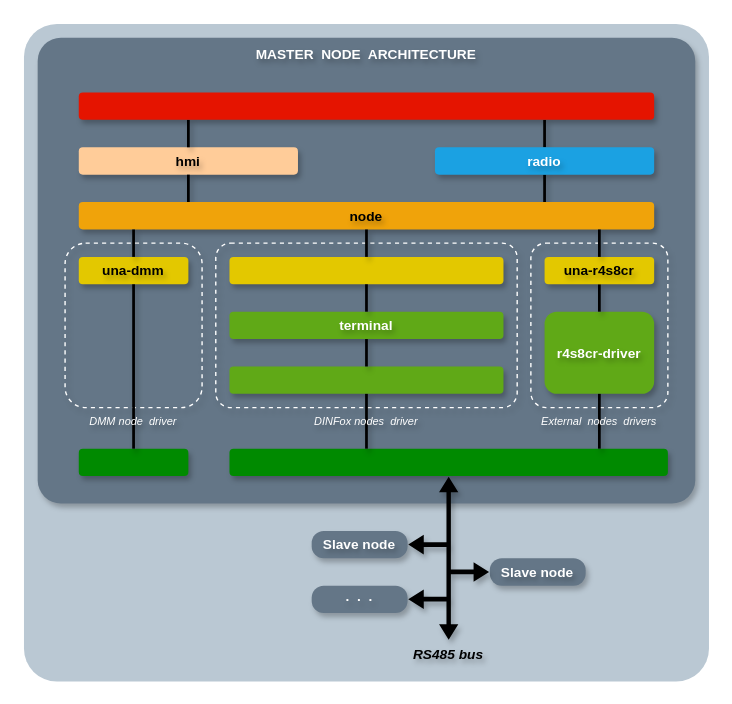
The diagram is 732 pixels wide and 704 high, and some of its shapes have lost their labels. The shapes that lost their labels are listed below. From the top down, each one's centre as x and y in pixels, then its label:
point (367, 107): main
point (367, 272): una-at
point (367, 381): lmac-driver
point (134, 464): peripherals
point (449, 464): lpuart
